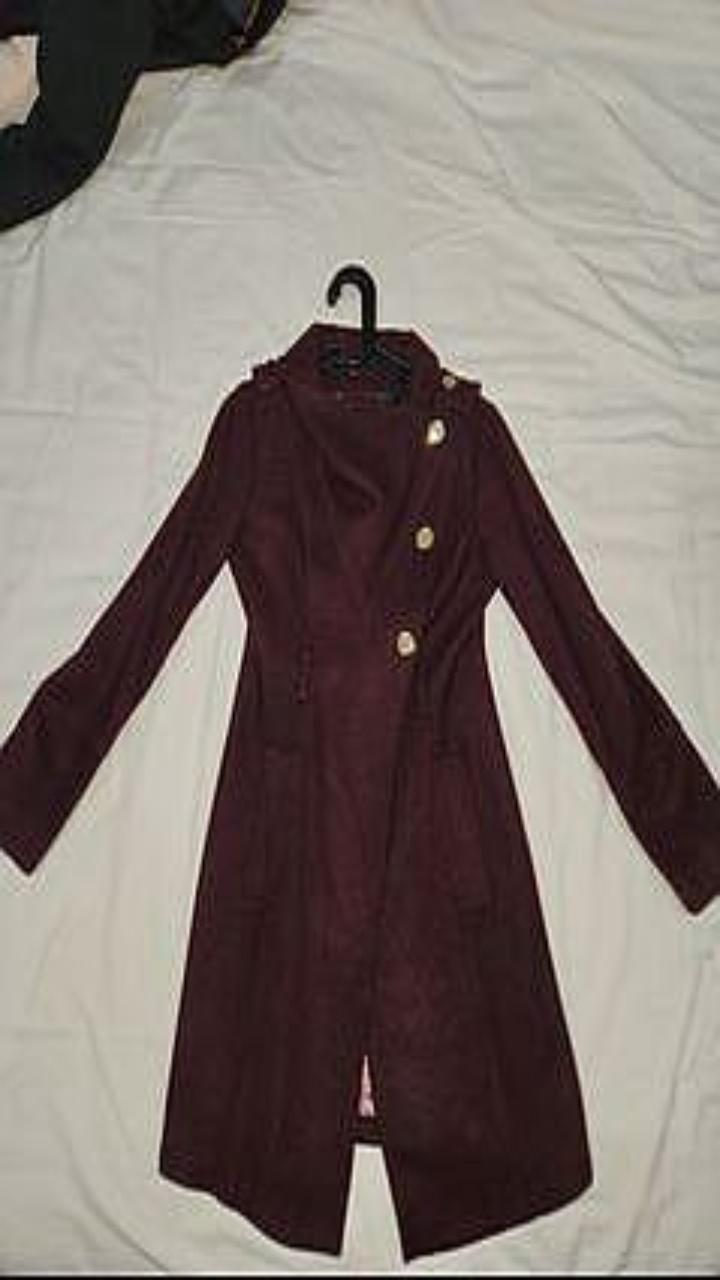Coat: (0, 324, 719, 1260)
